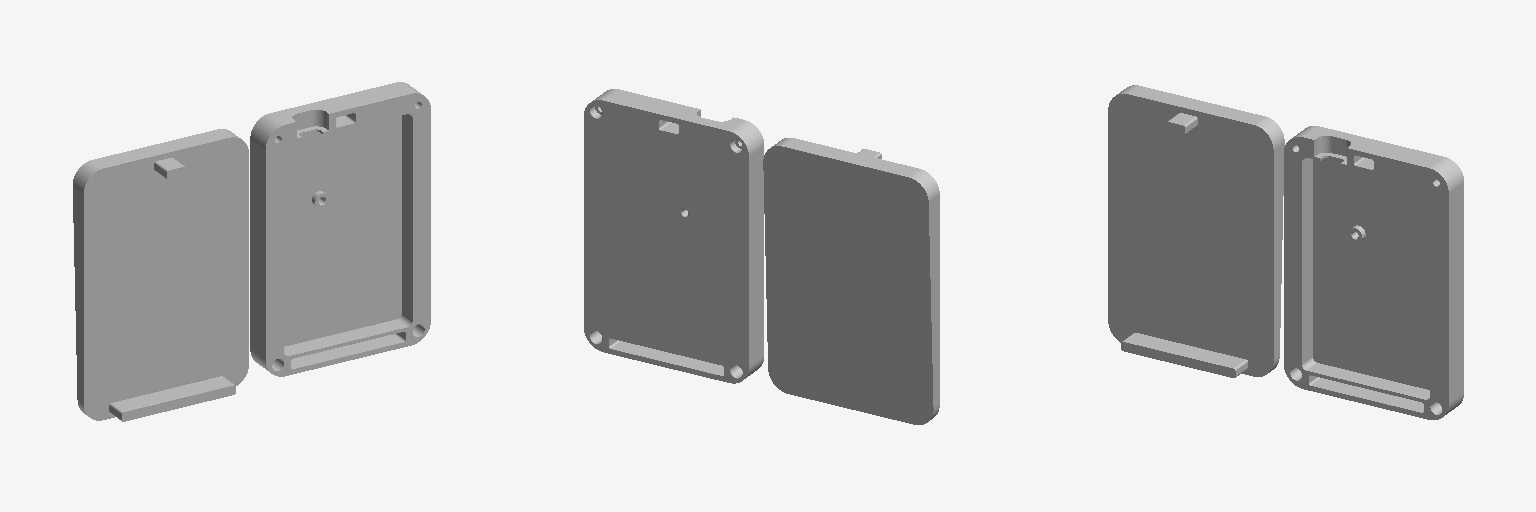
The model's file is utilipadfinal [bot].obj.
3 views of the same model, side by side, from view 1: azimuth 30°, elevation 25°; view 2: azimuth 150°, elevation 25°; view 3: azimuth 330°, elevation 25° (orthographic).
Visible parts, largest first — view 1: obj1, obj2; view 2: obj1, obj2; view 3: obj1, obj2.
Boxes of the visible parts, x1,y1,x2,y2 form: obj1: [250, 82, 430, 376]; obj2: [73, 129, 248, 421]; obj1: [584, 89, 763, 383]; obj2: [763, 138, 939, 424]; obj1: [1284, 126, 1463, 419]; obj2: [1108, 85, 1284, 377].
Bounding box in the file's own units: 172 × 121 × 21.33.